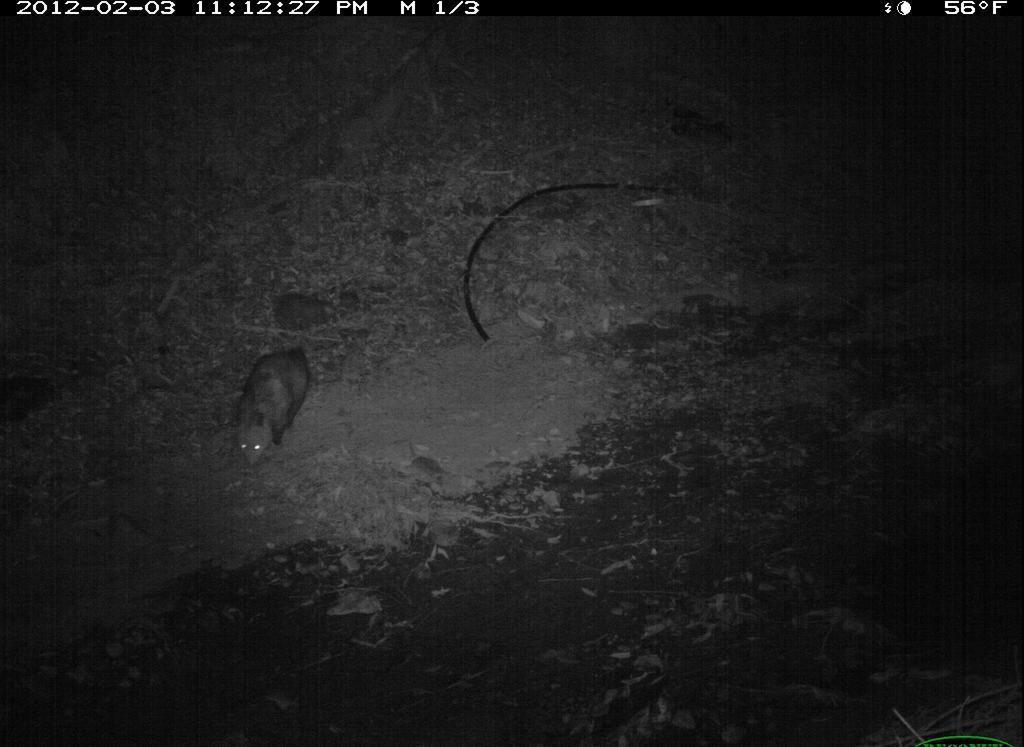opossum: (221, 317, 324, 495)
